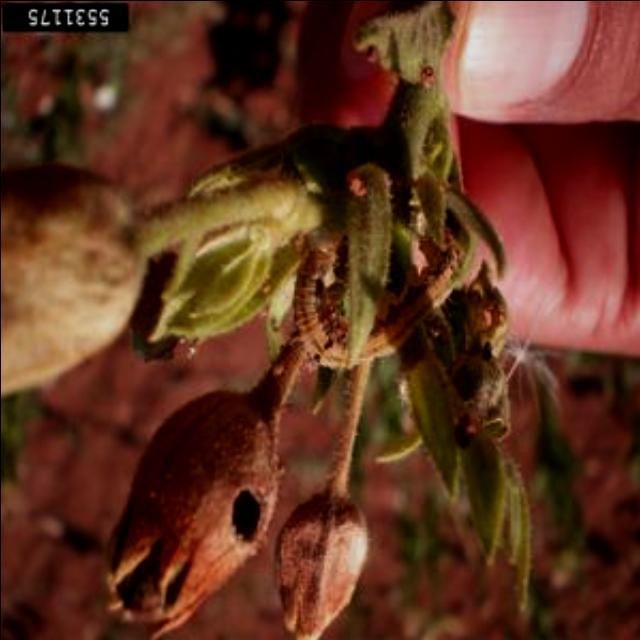Cotton bollworm: (279, 206, 487, 406)
